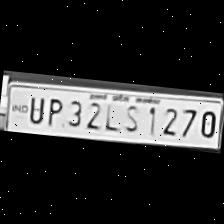0: (194, 106, 218, 140)
1: (140, 102, 158, 136)
2: (157, 103, 180, 137), (82, 96, 103, 132)
3: (64, 95, 84, 129)
7: (176, 104, 197, 140)
L: (101, 97, 122, 133)
P: (42, 94, 64, 128)
S: (121, 100, 142, 134)
U: (24, 93, 46, 125)
